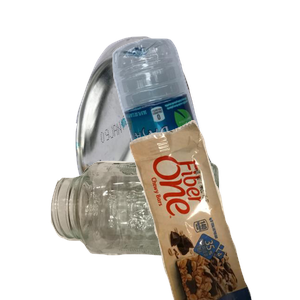glass: (48, 156, 260, 300)
metal: (73, 34, 285, 214)
plastic: (110, 36, 300, 216)
trash: (127, 120, 300, 300)
